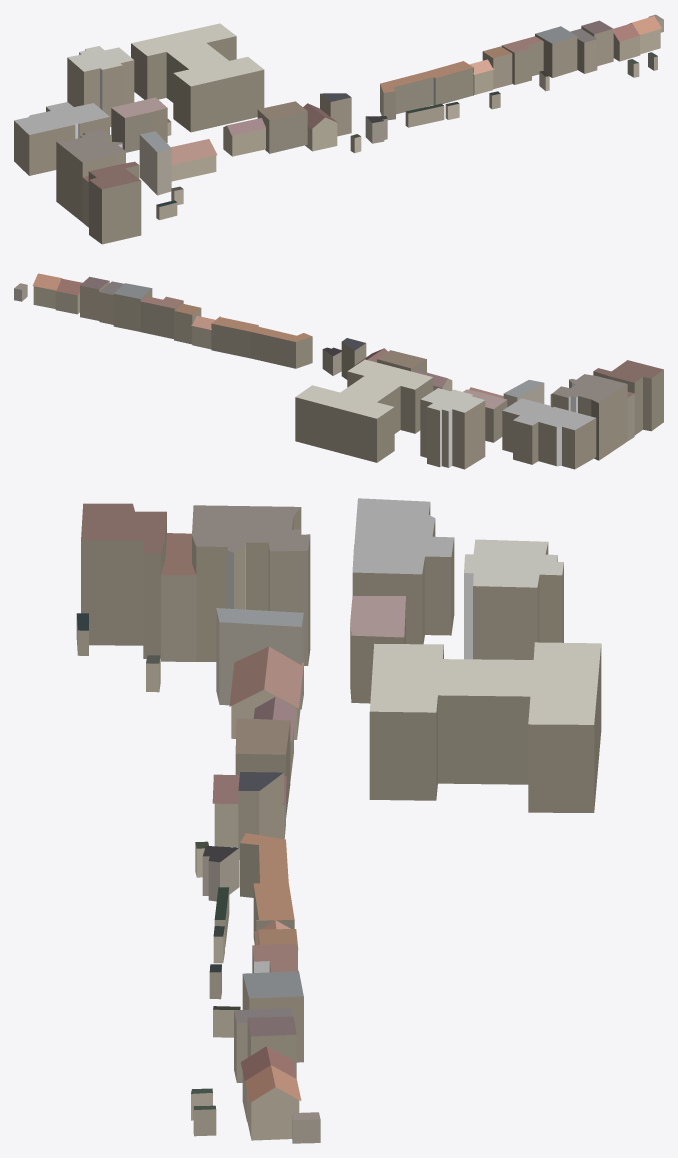
3 views of the same model, one above another, from view 1: azimuth 30°, elevation 25°; view 2: azimuth 150°, elevation 25°; view 3: azimuth 270°, elevation 25° (orthographic). The views are drawn at different scales.
Visible parts, largest first — view 1: tuile; view 2: tuile; view 3: tuile.
Boxes of the visible parts, x1,y1,x2,y2 form: tuile: [14, 14, 663, 244]; tuile: [14, 273, 663, 469]; tuile: [76, 498, 601, 1143].
Size of the model in its own units: 253 by 30.82 by 96.99.
